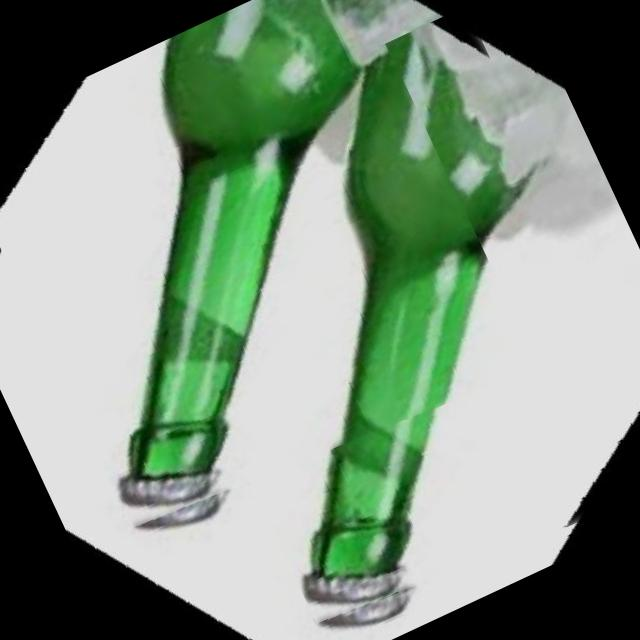Glass: (105, 0, 640, 640), (0, 0, 538, 551)
